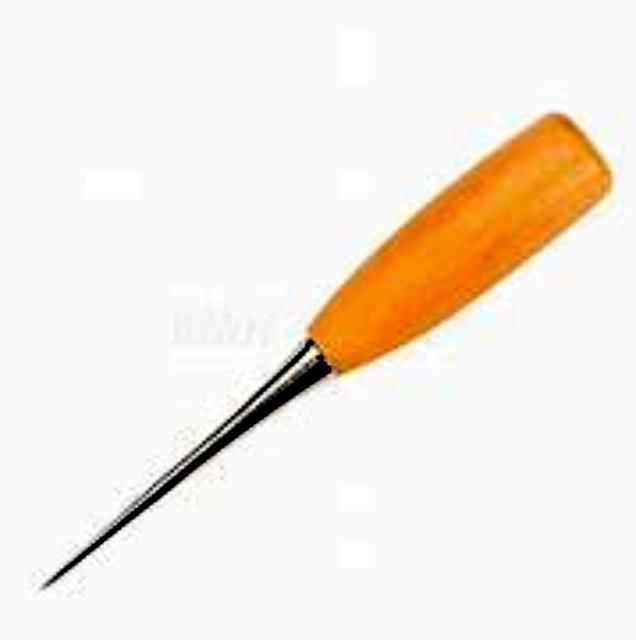ice pick: (43, 96, 622, 594)
